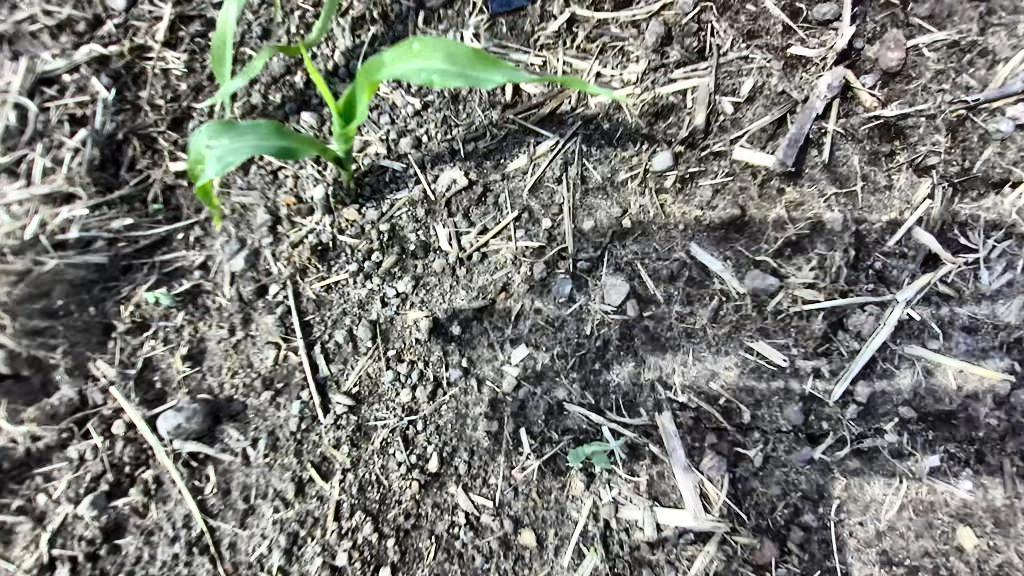BroWeed: (563, 433, 630, 467), (141, 288, 179, 307), (587, 448, 616, 471), (148, 200, 165, 214), (658, 193, 677, 205), (587, 545, 597, 559)
